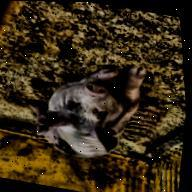boar: (14, 46, 156, 169)
